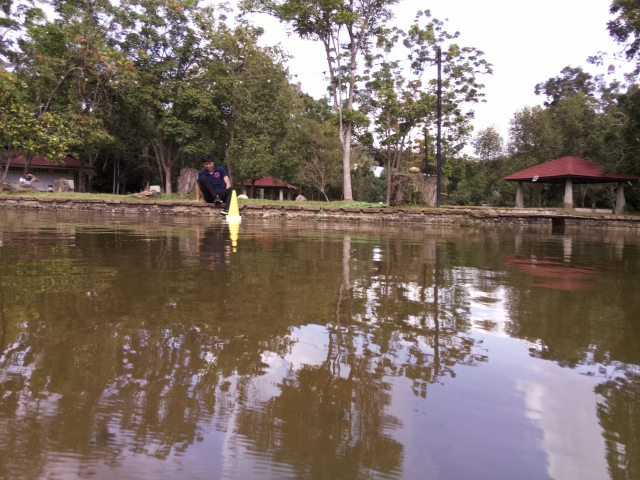checkpoint: (222, 189, 245, 222)
